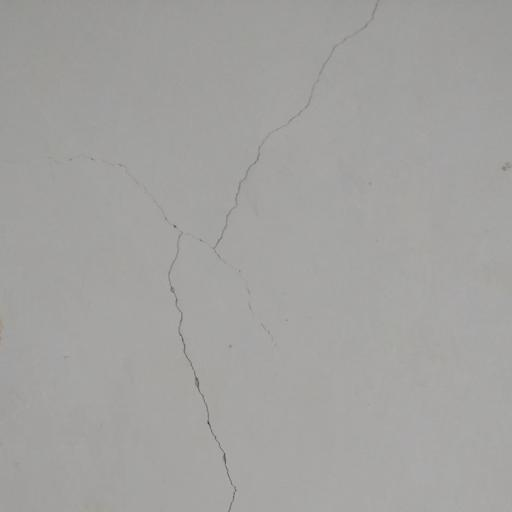minor_crack: (44, 0, 391, 512)
